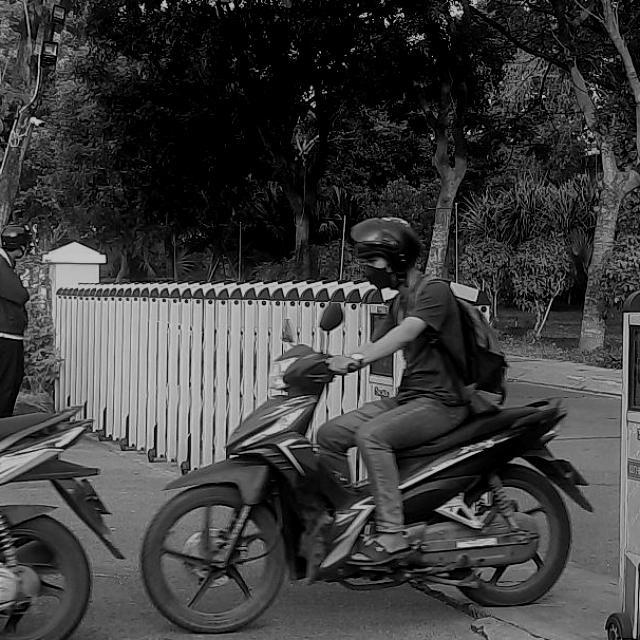Helmet: (348, 218, 422, 290)
